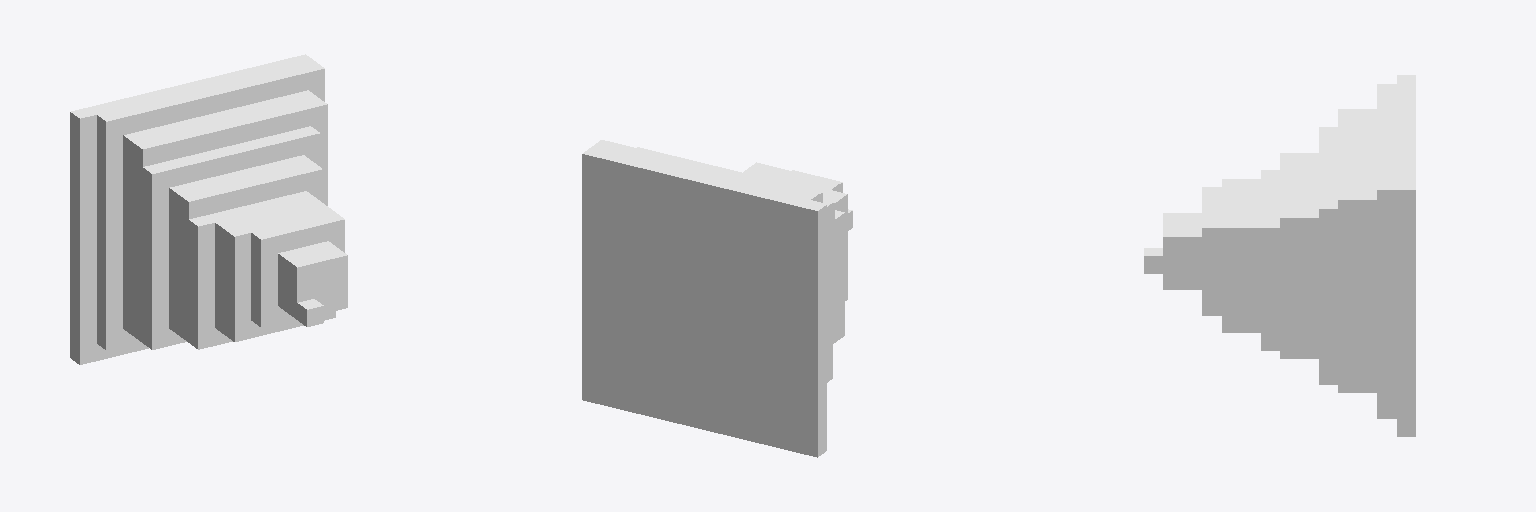
Rendered from obstacle4-0-spike1.obj.
3 renders of one model, left to right at view 1: azimuth 30°, elevation 25°; view 2: azimuth 150°, elevation 25°; view 3: azimuth 270°, elevation 25°, orthographic.
Parts seen in each view (by area): view 1: spike1; view 2: spike1; view 3: spike1.
Part boxes in pixels (bbox=[...]): spike1: bbox=[70, 54, 347, 364]; spike1: bbox=[582, 140, 852, 457]; spike1: bbox=[1144, 75, 1415, 436].
Bounding box in the file's own units: 1.4 × 1.4 × 1.4.